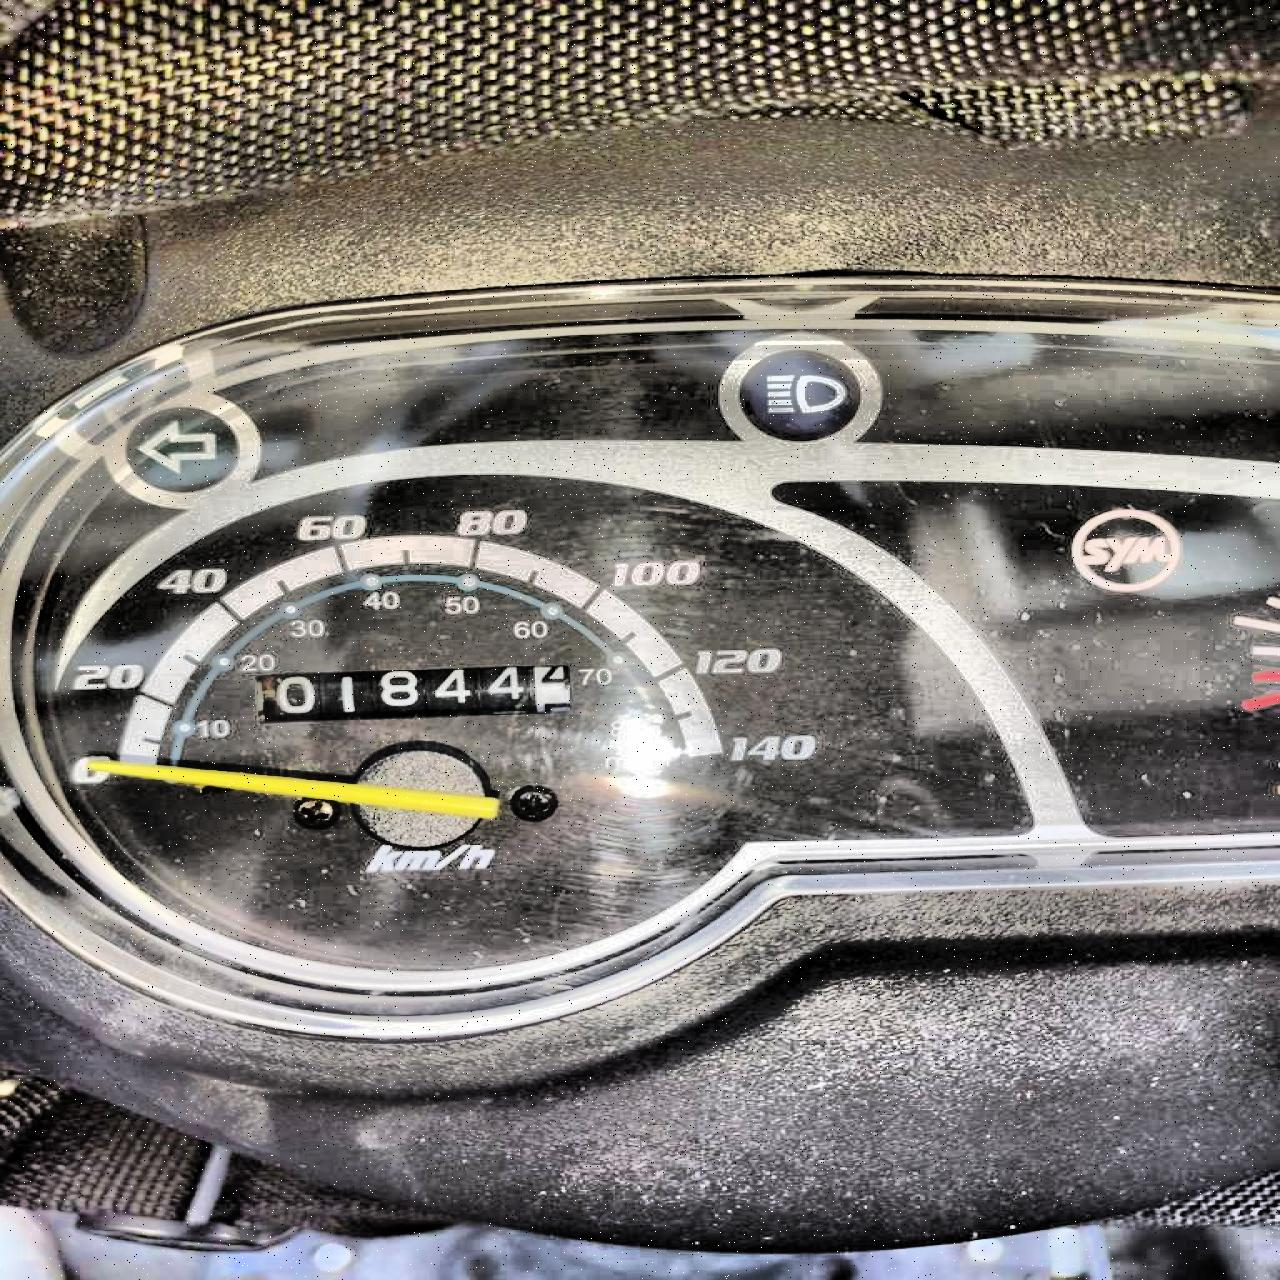0: (273, 674, 315, 714), (256, 654, 275, 672)
1: (334, 673, 363, 714)
4: (482, 665, 529, 701), (430, 666, 474, 703), (537, 663, 573, 690)
8: (375, 669, 420, 707)
odometer: (248, 660, 574, 724)
